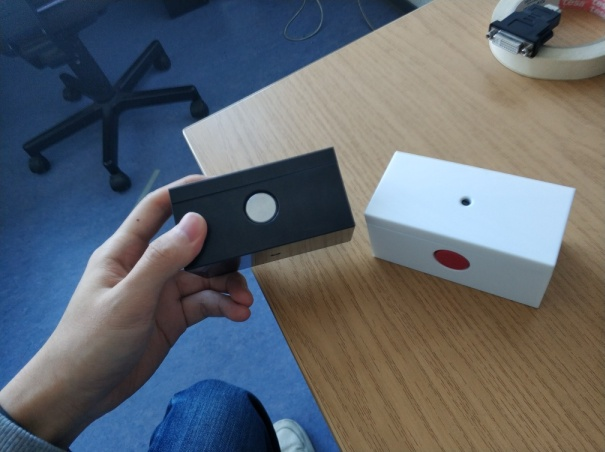black+black+silver: (164, 145, 356, 280)
white+white+red: (363, 150, 577, 309)
